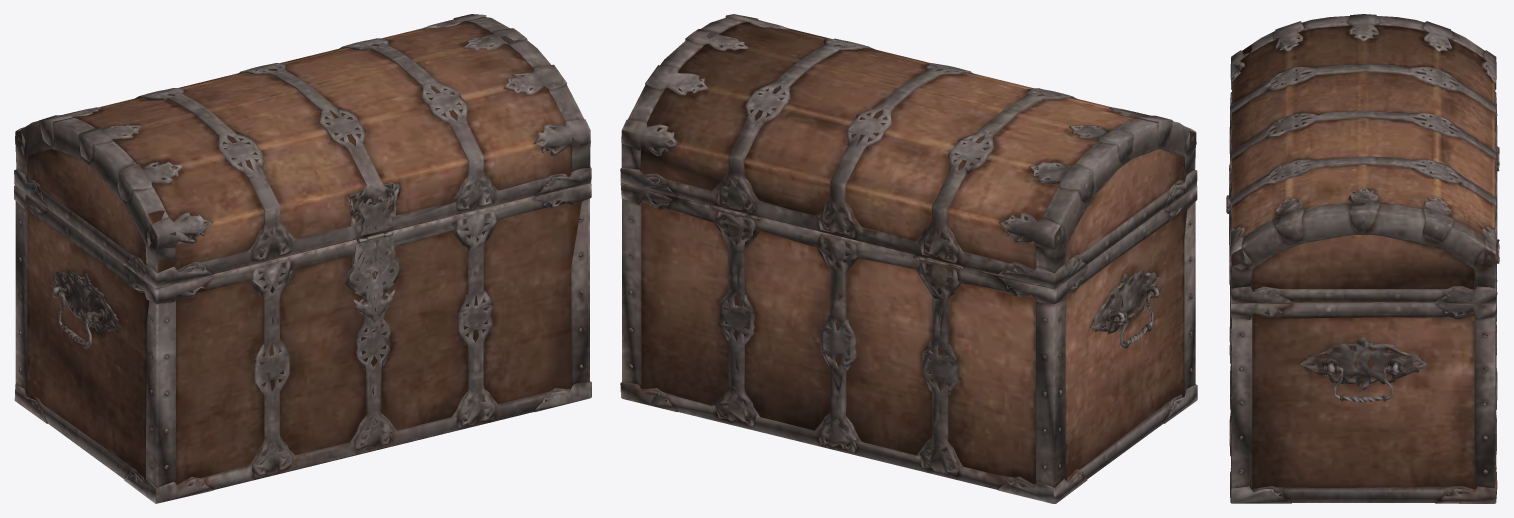
File: bau.glb
3 views of the same model, side by side, from view 1: azimuth 30°, elevation 25°; view 2: azimuth 150°, elevation 25°; view 3: azimuth 270°, elevation 25° (orthographic). The views are drawn at different scales.
Visible parts, largest first — view 1: treasure_chest_bottom, treasure_chest_lid, treasure_chest_lock; view 2: treasure_chest_bottom, treasure_chest_lid; view 3: treasure_chest_lid, treasure_chest_bottom, treasure_chest_handle_right.
Boxes of the visible parts, box(x1,y1,x2,y2) form: treasure_chest_bottom: box(14, 183, 591, 503); treasure_chest_lid: box(14, 14, 591, 288); treasure_chest_lock: box(349, 233, 399, 322); treasure_chest_bottom: box(620, 183, 1197, 503); treasure_chest_lid: box(620, 14, 1197, 288); treasure_chest_lid: box(1226, 14, 1499, 302); treasure_chest_bottom: box(1229, 131, 1499, 503); treasure_chest_handle_right: box(1320, 365, 1406, 402).
Size of the model in its own units: 0.959 by 0.618 by 0.5224.
Materials: 1 (1 with a texture image).
